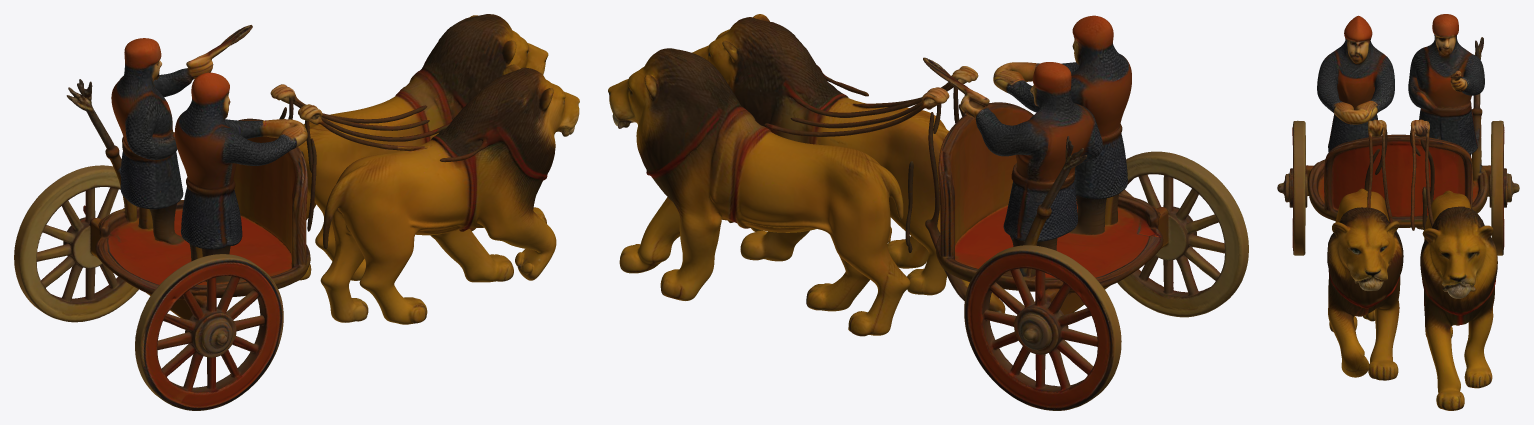
Rendered from Red-Chariot-figure.glb.
3 views of the same model, side by side, from view 1: azimuth 30°, elevation 25°; view 2: azimuth 150°, elevation 25°; view 3: azimuth 270°, elevation 25° (orthographic). The views are drawn at different scales.
Parts seen in each view (by area): view 1: tripo_node_c992bb62-dac9-482f-81bb-c1349d095f5f; view 2: tripo_node_c992bb62-dac9-482f-81bb-c1349d095f5f; view 3: tripo_node_c992bb62-dac9-482f-81bb-c1349d095f5f.
Part boxes in pixels (x1=…): tripo_node_c992bb62-dac9-482f-81bb-c1349d095f5f: x1=14, y1=14, x2=579, y2=410; tripo_node_c992bb62-dac9-482f-81bb-c1349d095f5f: x1=608, y1=14, x2=1248, y2=410; tripo_node_c992bb62-dac9-482f-81bb-c1349d095f5f: x1=1277, y1=14, x2=1519, y2=410.
Bounding box in the file's own units: 1 × 0.5647 × 0.505.
Materials: 1 (1 with a texture image).
